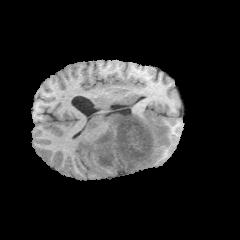glioma: (86, 113, 170, 171)
